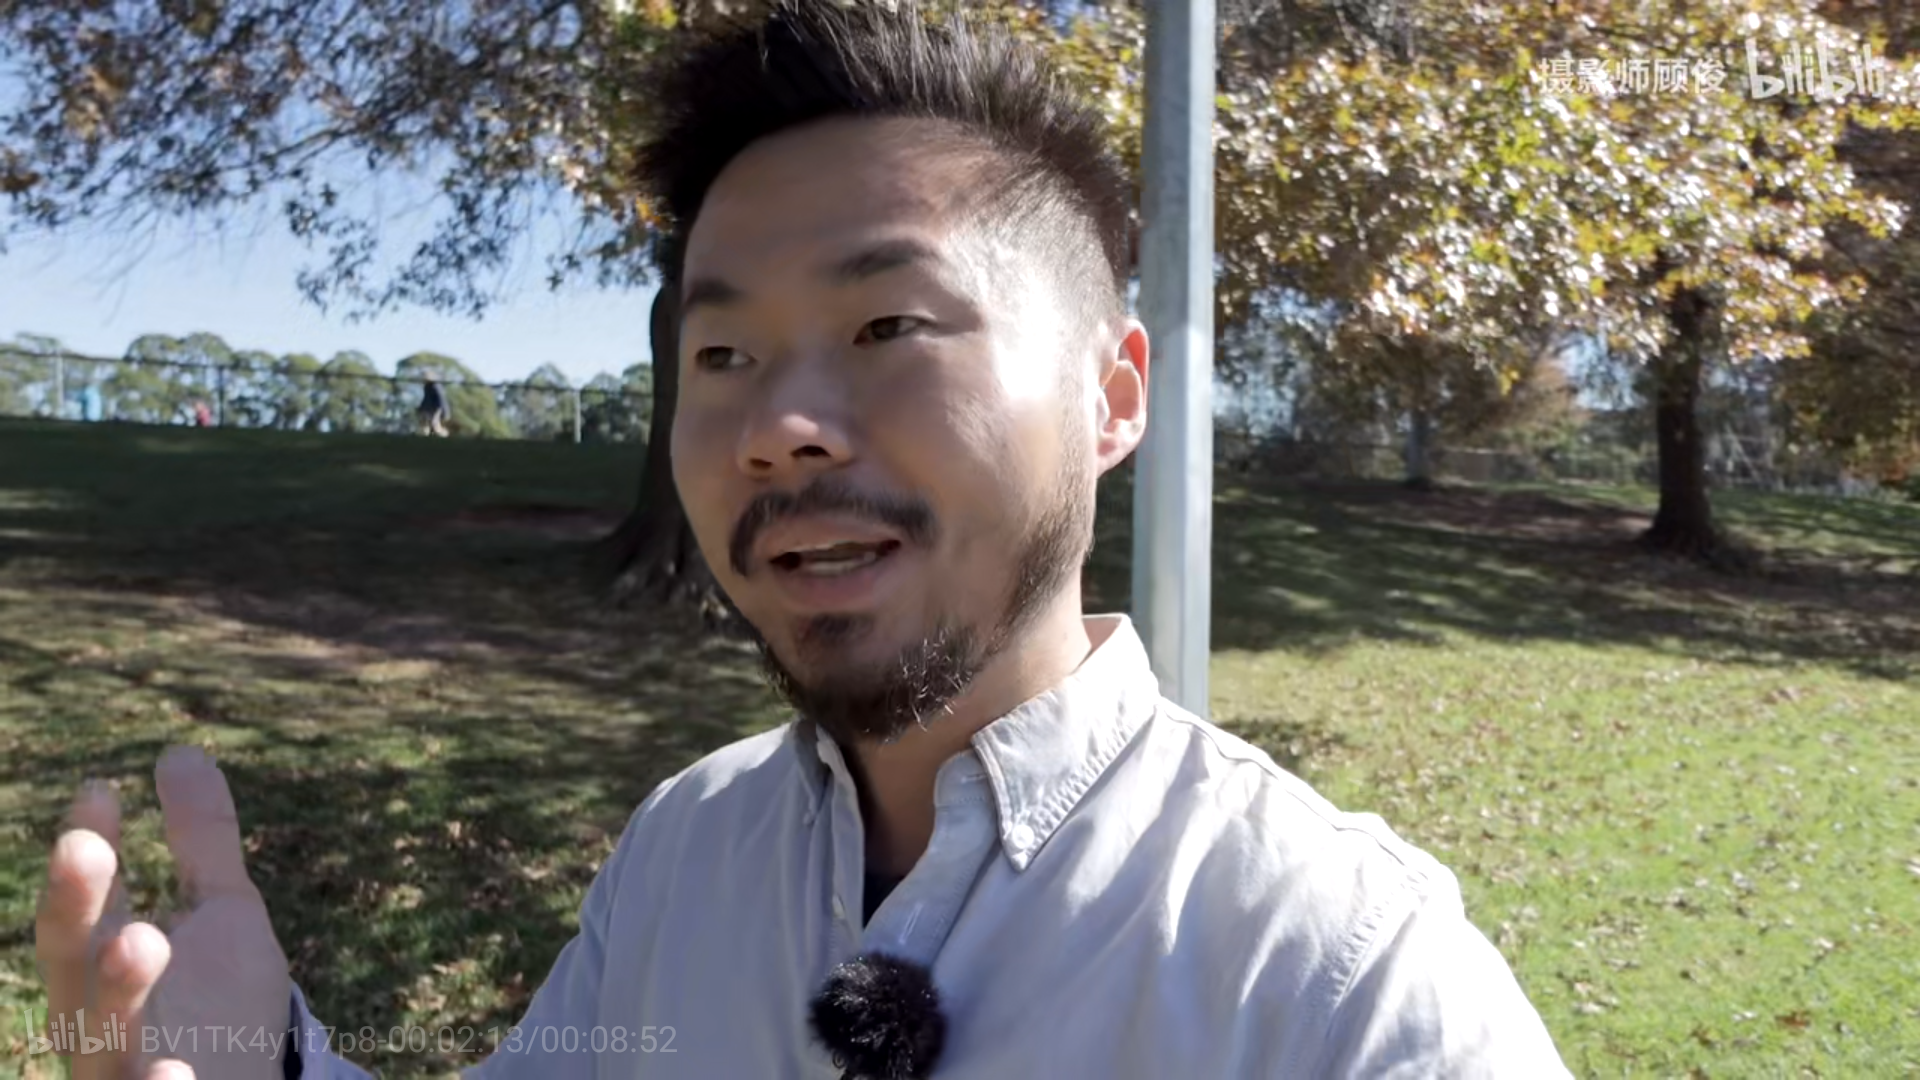noWear: (665, 220, 1155, 748)
